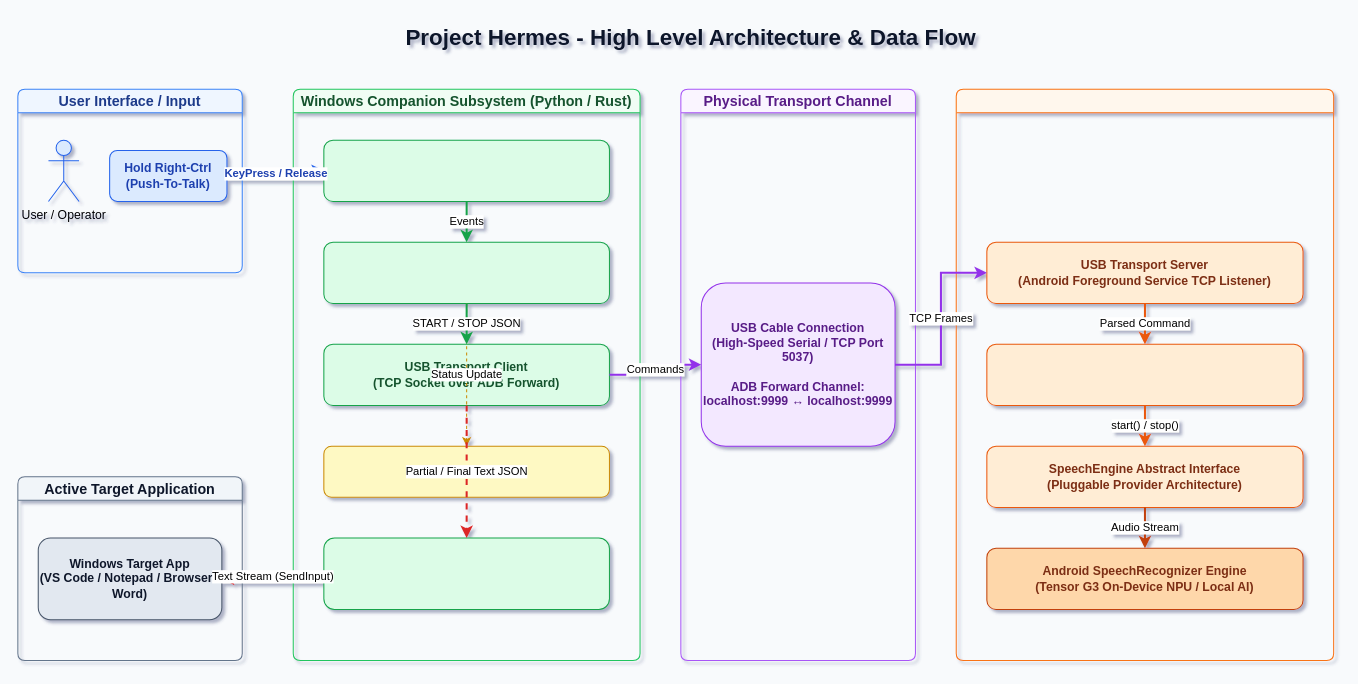
Some shapes in this 1358 by 684 pixel diagram are drawn without their labels. Each missing label, with the box of its shape:
Android Companion Subsystem (Pixel 8 / Kotlin): (955, 88, 1334, 660)
Global Hotkey Service (pyWinhook / Windows Hook): (323, 139, 609, 201)
Session & Protocol Controller (State Machine, Command Formatter): (323, 241, 609, 303)
Speech Session State Controller (IDLE ↔ LISTENING ↔ RECOGNIZING): (986, 343, 1303, 405)
Text Injector Engine (SendInput API / UI Automation / Clipboard): (323, 537, 609, 609)
Transparent HUD / Status Overlay (PyQt / WinUI - Listening / Finalizing): (323, 445, 609, 497)
